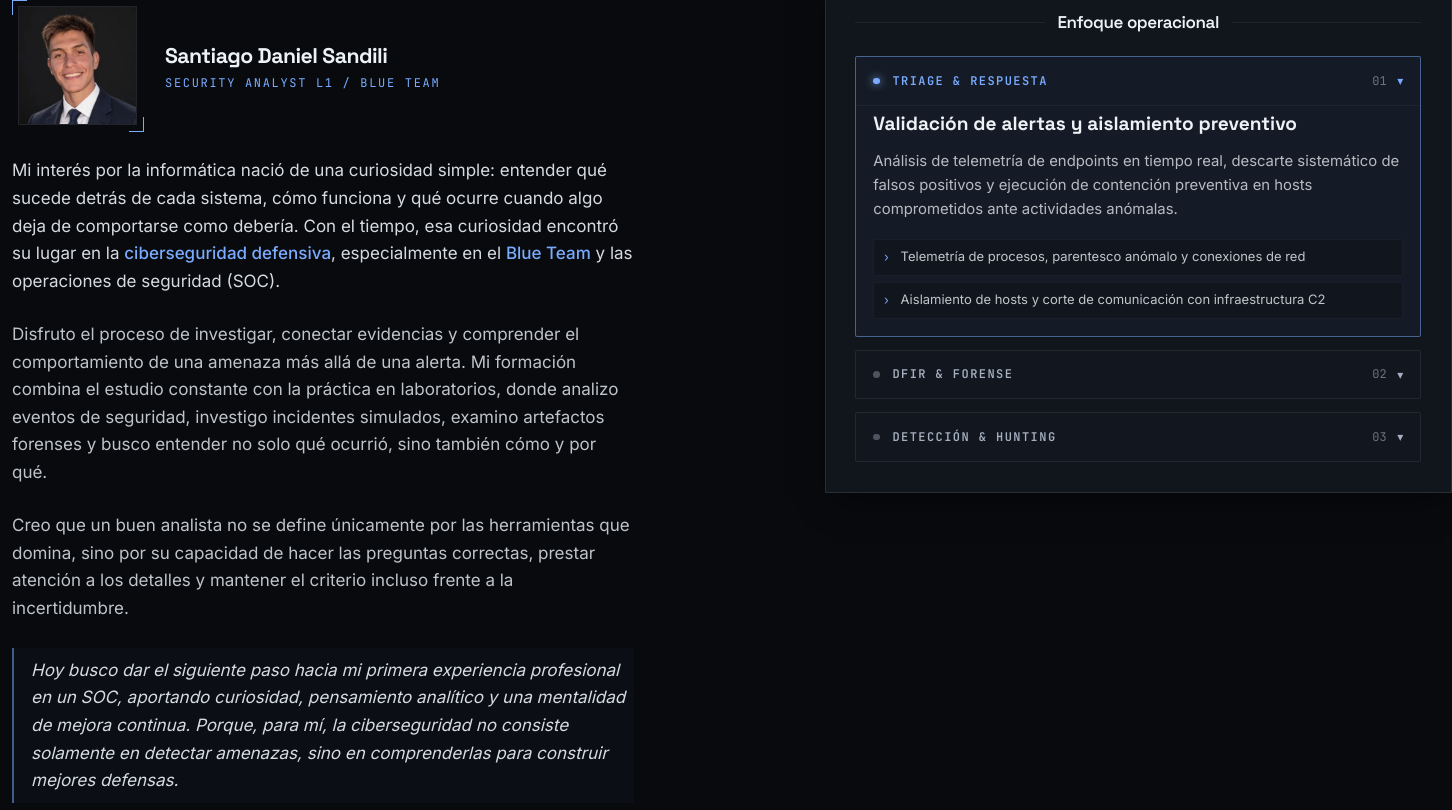
Scenario: About section - Profile Narrative & Tactical Dossier › switches to DETECCIÓN & HUNTING tab when clicked
This screenshot has width=1452, height=810.
(page scrolled)
Click the button "DETECCIÓN & HUNTING 03 ▾" at (974,437), box top-left (856, 413), bottom-right (1420, 461)
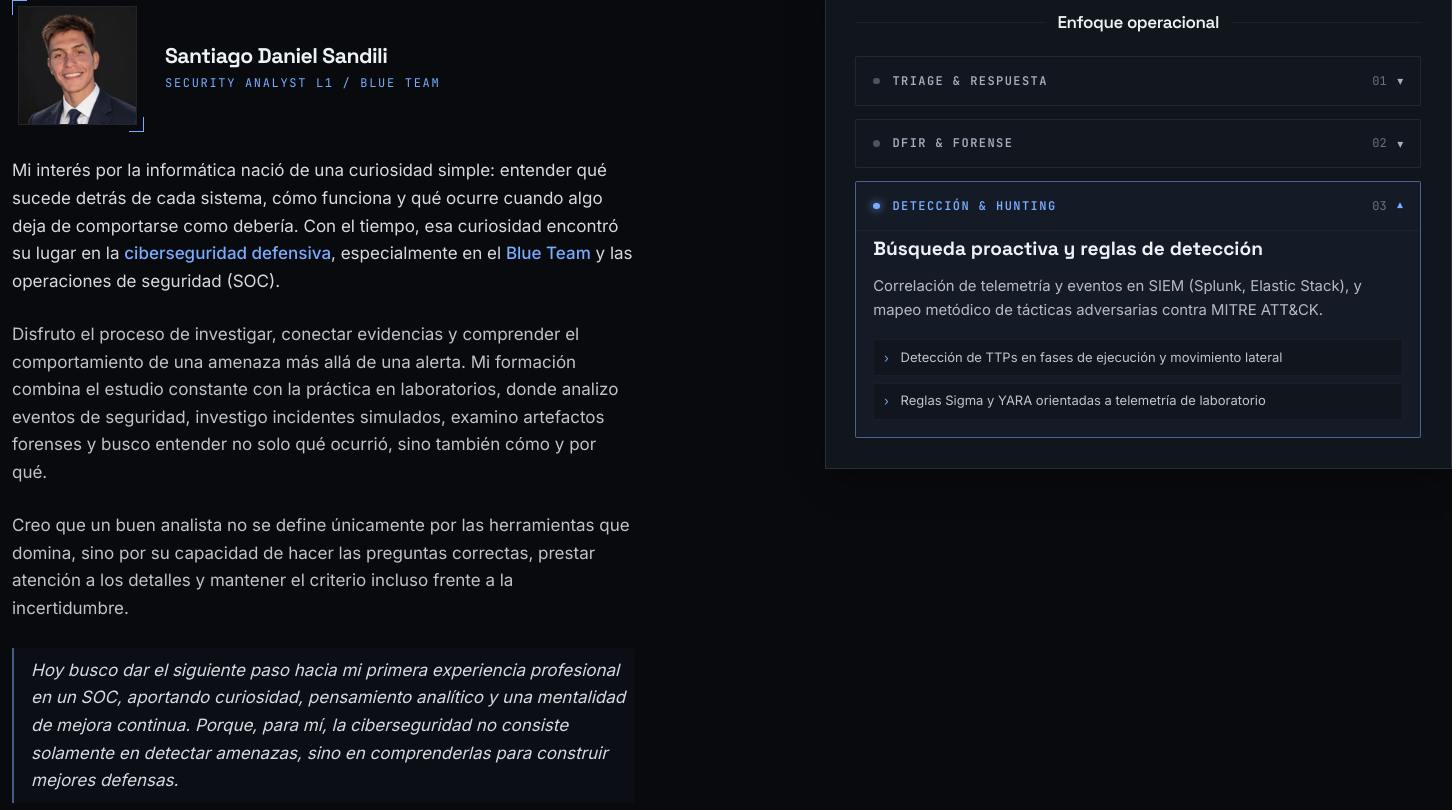
Check: the heading "Búsqueda proactiva y reglas de detección" is shown, box top-left (873, 236), bottom-right (1263, 261)
Check: the text "Detección de TTPs en fases de ejecución y movimiento lateral" is shown, box top-left (901, 349), bottom-right (1282, 367)
